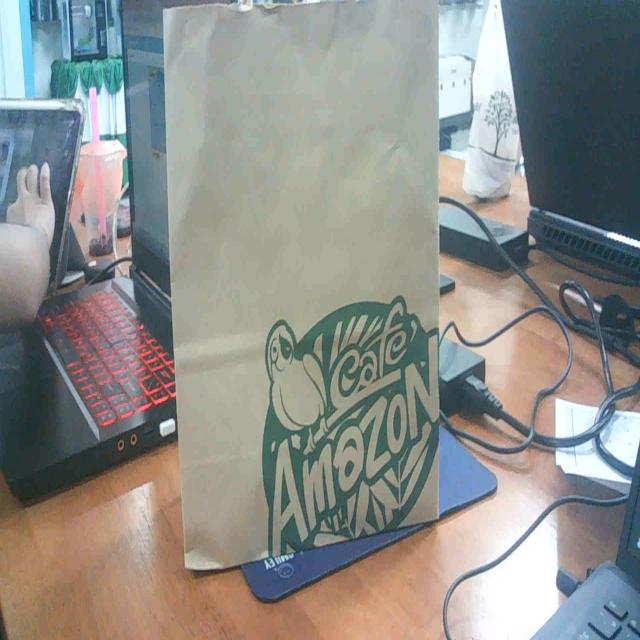bag: (157, 6, 474, 564)
